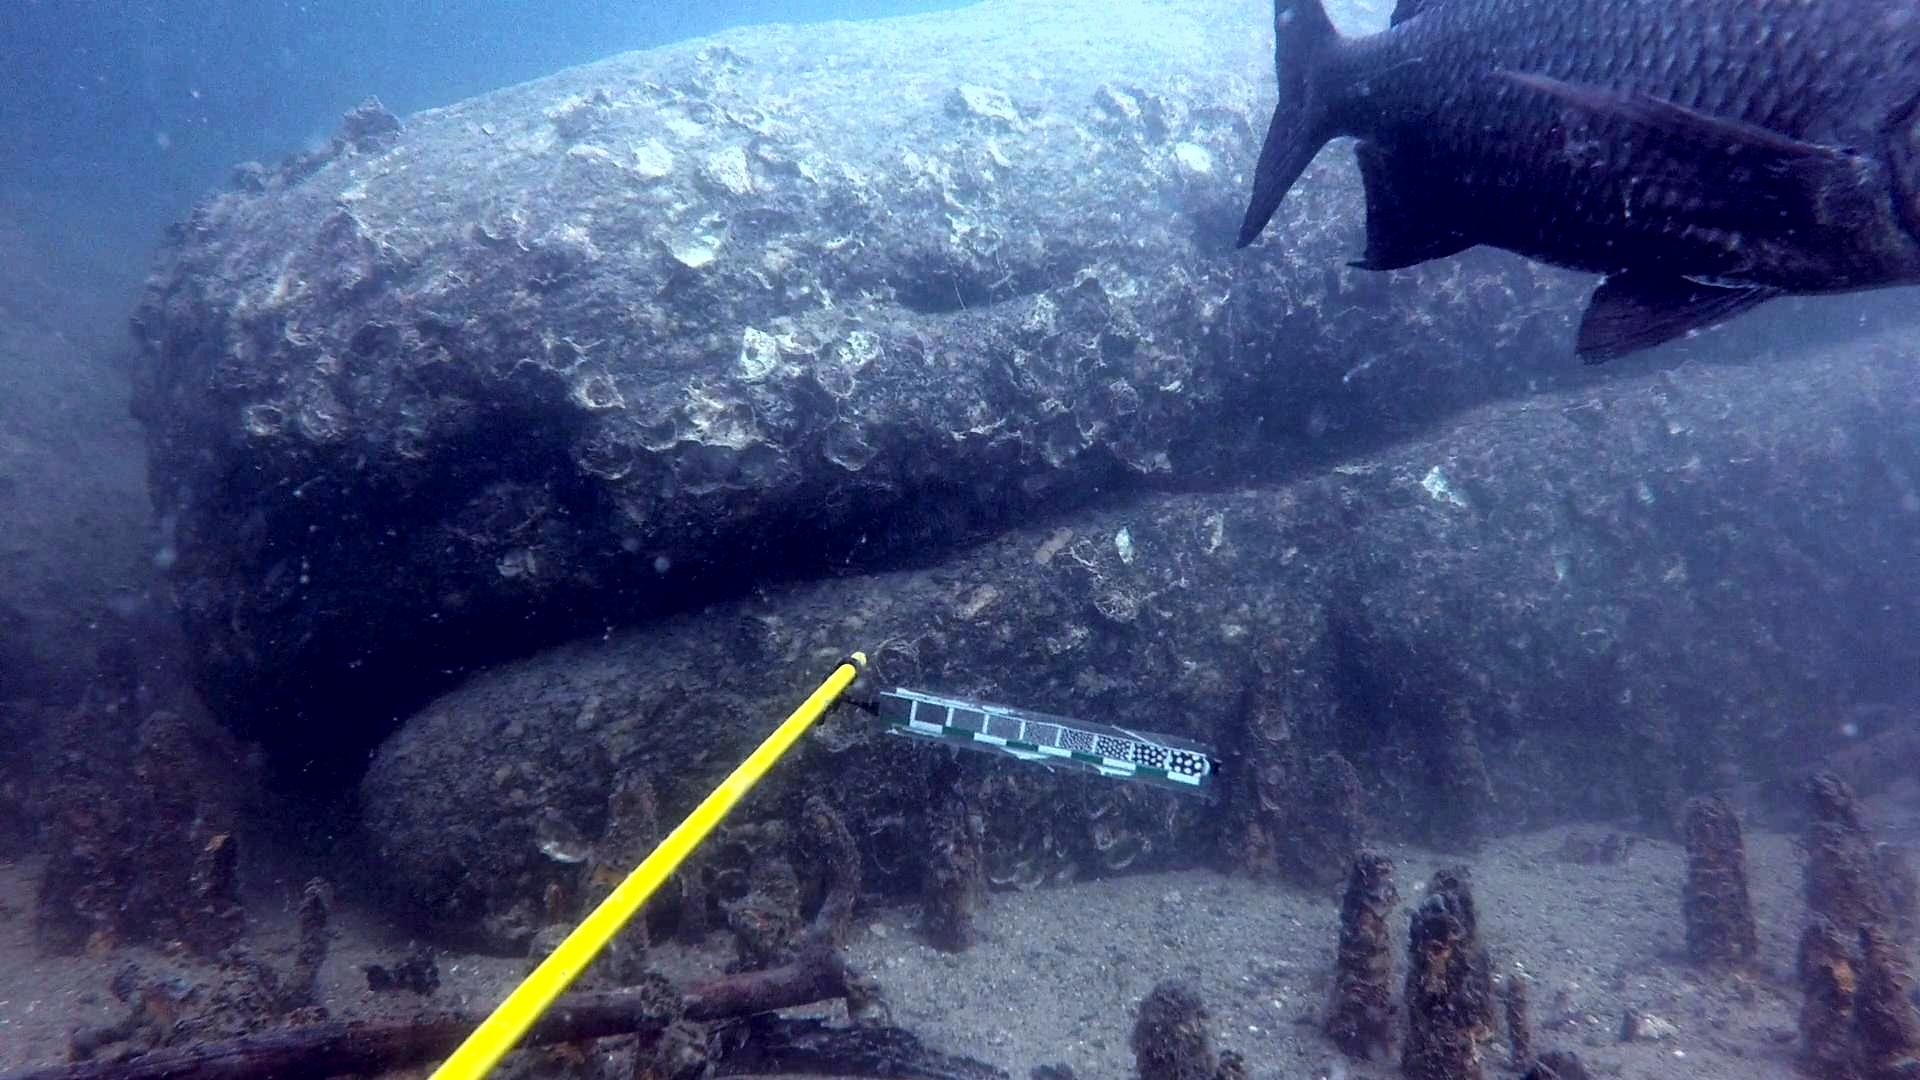acanthopagrus palmaris: (1225, 0, 1920, 367)
